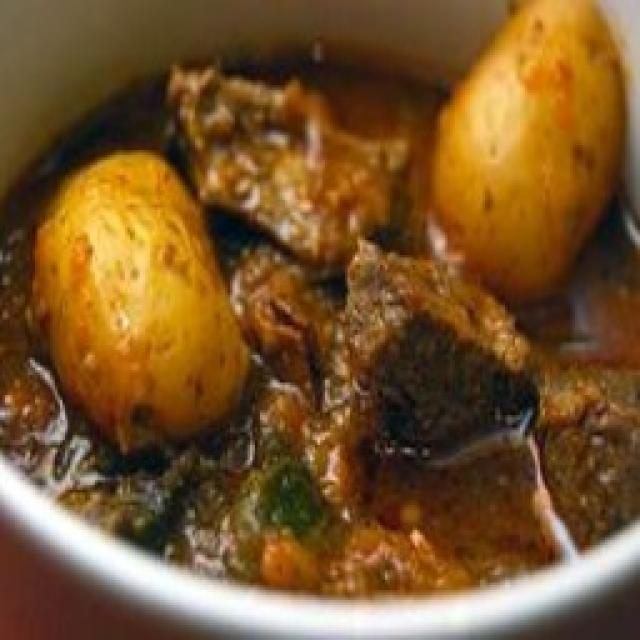Kamouniya: (0, 64, 640, 597)
